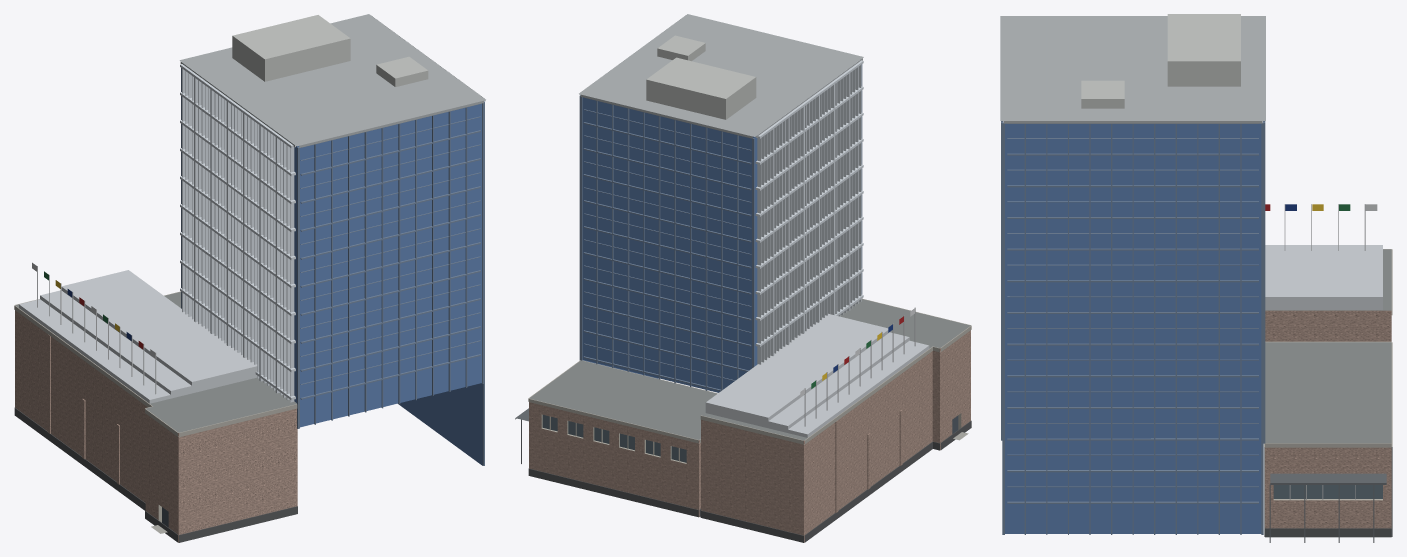
3 renders of one model, left to right at view 1: azimuth 30°, elevation 25°; view 2: azimuth 150°, elevation 25°; view 3: azimuth 270°, elevation 25°, orthographic. The views are drawn at different scales.
Visible parts, largest first — view 1: facility-1436367110__tower-glass, facility-1436367110__fin, facility-1436367110__brick, facility-1436367110__cap, facility-1436367110__terrace, facility-1436367110__mullion, facility-1436367110__penthouse, facility-1436367110__roof, facility-1436367110__plinth, facility-1436367110__stone, facility-1436367110__flagpole; view 2: facility-1436367110__tower-glass, facility-1436367110__brick, facility-1436367110__fin, facility-1436367110__mullion, facility-1436367110__cap, facility-1436367110__terrace, facility-1436367110__roof, facility-1436367110__penthouse, facility-1436367110__plinth, facility-1436367110__stone, facility-1436367110__pavilion-glass, facility-1436367110__flagpole; view 3: facility-1436367110__tower-glass, facility-1436367110__mullion, facility-1436367110__cap, facility-1436367110__roof, facility-1436367110__brick, facility-1436367110__terrace, facility-1436367110__penthouse, facility-1436367110__canopy, facility-1436367110__plinth, facility-1436367110__pavilion-glass, facility-1436367110__stone.
Boxes of the visible parts, bbox=[...] form: facility-1436367110__tower-glass: bbox=[294, 103, 482, 465]; facility-1436367110__fin: bbox=[180, 64, 295, 402]; facility-1436367110__brick: bbox=[15, 310, 297, 542]; facility-1436367110__cap: bbox=[179, 14, 485, 147]; facility-1436367110__terrace: bbox=[19, 270, 257, 403]; facility-1436367110__mullion: bbox=[181, 68, 484, 465]; facility-1436367110__penthouse: bbox=[232, 15, 428, 86]; facility-1436367110__roof: bbox=[15, 292, 296, 432]; facility-1436367110__plinth: bbox=[14, 407, 297, 542]; facility-1436367110__stone: bbox=[14, 291, 297, 437]; facility-1436367110__flagpole: bbox=[37, 266, 156, 394]; facility-1436367110__tower-glass: bbox=[582, 97, 757, 392]; facility-1436367110__brick: bbox=[529, 330, 970, 542]; facility-1436367110__fin: bbox=[755, 60, 863, 364]; facility-1436367110__mullion: bbox=[579, 64, 862, 391]; facility-1436367110__cap: bbox=[579, 14, 863, 138]; facility-1436367110__terrace: bbox=[705, 313, 929, 437]; facility-1436367110__roof: bbox=[529, 299, 970, 440]; facility-1436367110__penthouse: bbox=[646, 35, 756, 119]; facility-1436367110__plinth: bbox=[528, 420, 971, 542]; facility-1436367110__stone: bbox=[528, 298, 971, 444]; facility-1436367110__pavilion-glass: bbox=[542, 415, 686, 462]; facility-1436367110__flagpole: bbox=[804, 307, 915, 426]; facility-1436367110__tower-glass: bbox=[1005, 123, 1261, 533]; facility-1436367110__mullion: bbox=[1001, 121, 1265, 534]; facility-1436367110__cap: bbox=[1000, 16, 1355, 499]; facility-1436367110__roof: bbox=[1265, 249, 1391, 443]; facility-1436367110__brick: bbox=[1265, 310, 1391, 528]; facility-1436367110__terrace: bbox=[1265, 245, 1382, 309]; facility-1436367110__penthouse: bbox=[1081, 14, 1240, 108]; facility-1436367110__canopy: bbox=[1269, 473, 1386, 542]; facility-1436367110__plinth: bbox=[1264, 447, 1392, 537]; facility-1436367110__pavilion-glass: bbox=[1273, 485, 1382, 498]; facility-1436367110__stone: bbox=[1264, 249, 1392, 447].
Size of the model in its own units: 49.78 by 56.65 by 45.51.
21 materials, 1 textured.
